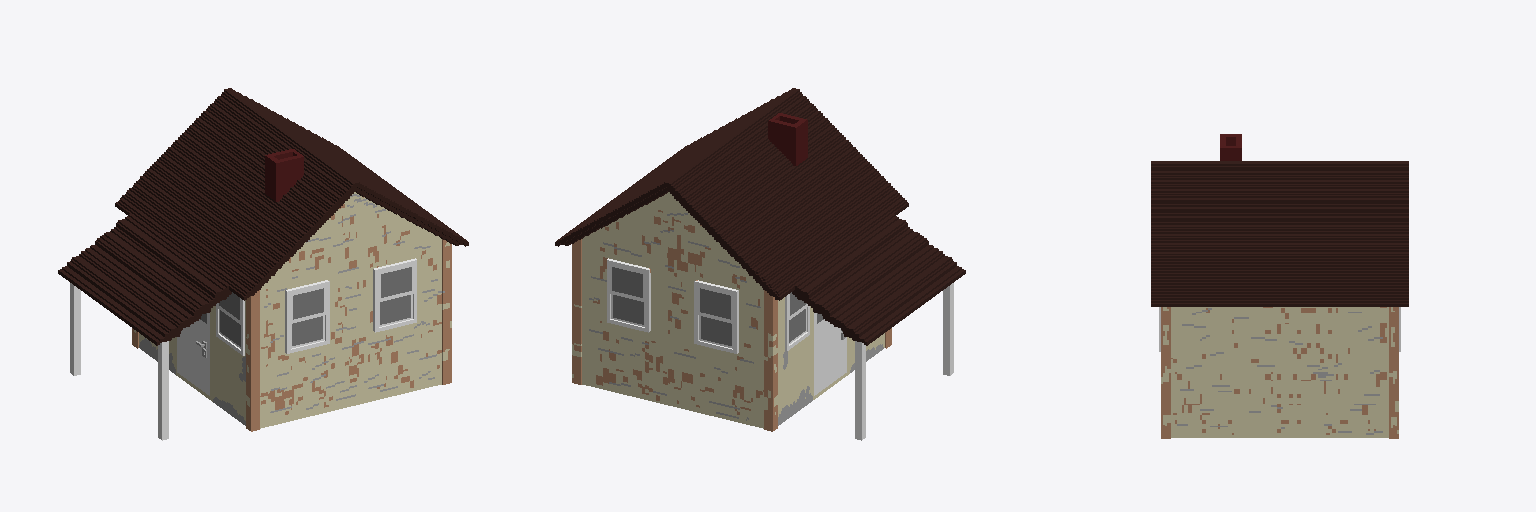
3 renders of one model, left to right at view 1: azimuth 30°, elevation 25°; view 2: azimuth 150°, elevation 25°; view 3: azimuth 270°, elevation 25°, orthographic.
Parts seen in each view (by area): view 1: object 1; view 2: object 1; view 3: object 1.
Part boxes in pixels (x1,y1,x2,y2): object 1: (58,88,468,440); object 1: (555,88,965,440); object 1: (1151,134,1408,438).
Size of the model in its own units: 16.9 by 12.7 by 12.7.
Materials: 1 (1 with a texture image).